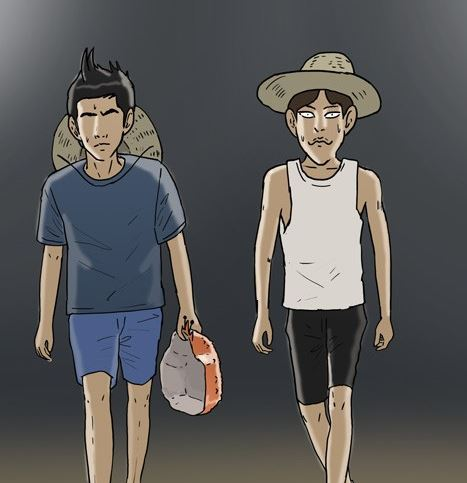hat: (253, 49, 384, 115)
